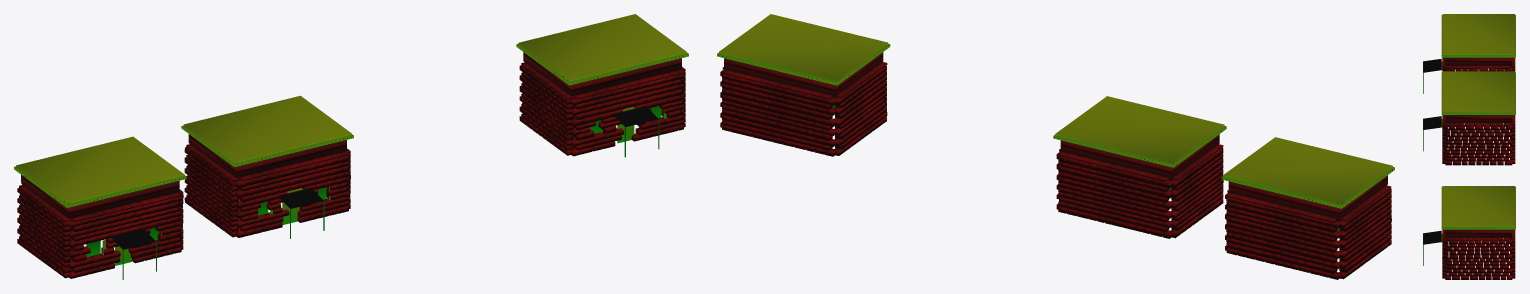
File: quellan_houses_n.glb
3 renders of one model, left to right at view 1: azimuth 30°, elevation 25°; view 2: azimuth 150°, elevation 25°; view 3: azimuth 270°, elevation 25°, orthographic. The views are drawn at different scales.
Parts seen in each view (by area): view 1: quellan_houses_n; view 2: quellan_houses_n; view 3: quellan_houses_n.
Part boxes in pixels (x1,y1,x2,y2): quellan_houses_n: (14, 14, 688, 279); quellan_houses_n: (717, 14, 1394, 279); quellan_houses_n: (1423, 14, 1515, 279).
Size of what is drawn, in the model's own units: 44.57 by 5.28 by 8.22.
